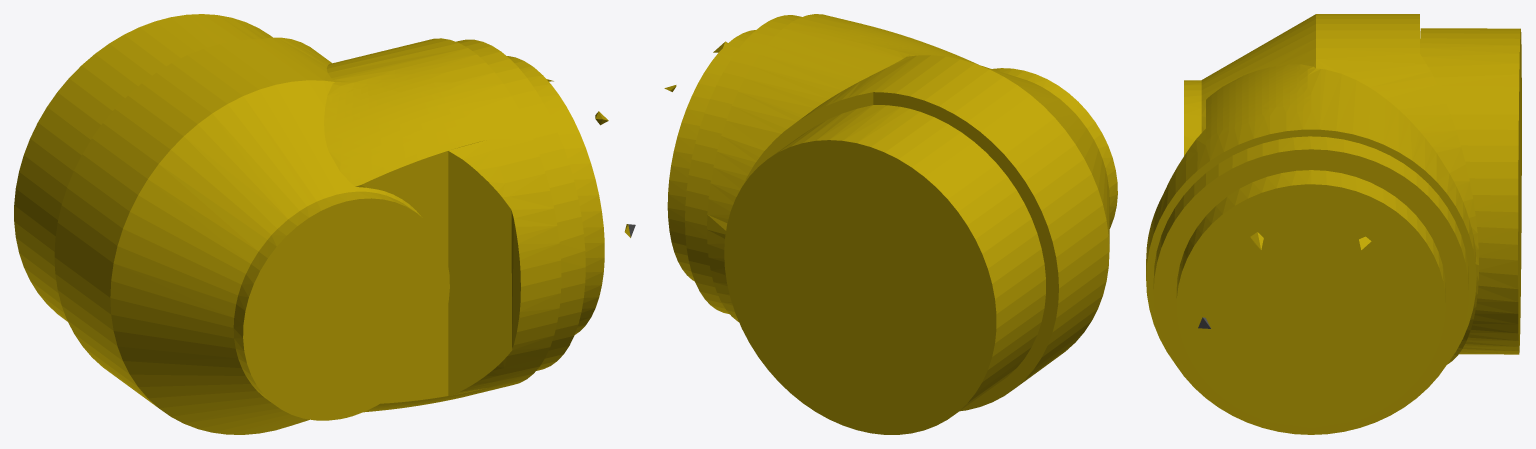
3 renders of one model, left to right at view 1: azimuth 30°, elevation 25°; view 2: azimuth 150°, elevation 25°; view 3: azimuth 270°, elevation 25°, orthographic. The views are drawn at different scales.
Visible parts, largest first — view 1: Mesh; view 2: Mesh; view 3: Mesh.
Boxes of the visible parts, box(x1,y1,x2,y2) form: Mesh: box(14, 14, 635, 434); Mesh: box(664, 14, 1117, 434); Mesh: box(1146, 14, 1521, 434).
Bounding box in the file's own units: 0.276 × 0.2061 × 0.1943.
